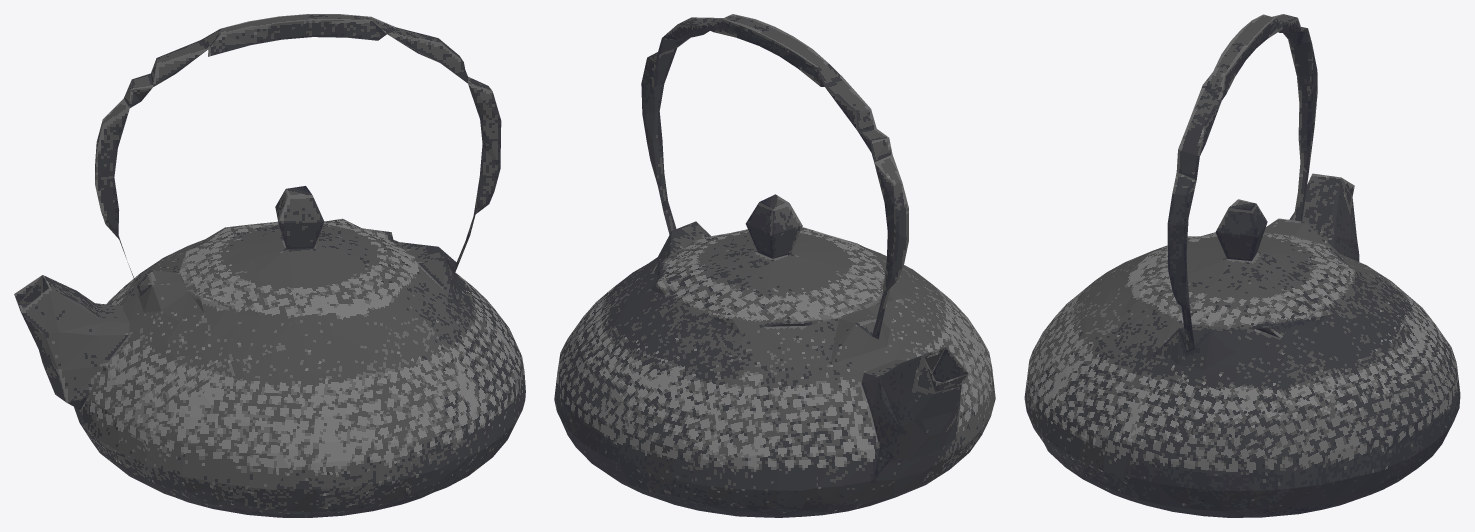
File: kettle.glb
3 views of the same model, side by side, from view 1: azimuth 30°, elevation 25°; view 2: azimuth 150°, elevation 25°; view 3: azimuth 270°, elevation 25° (orthographic). The views are drawn at different scales.
Parts seen in each view (by area): view 1: model_m; view 2: model_m; view 3: model_m.
Boxes of the visible parts, x1=… form: model_m: x1=14, y1=14, x2=525, y2=517; model_m: x1=554, y1=14, x2=995, y2=517; model_m: x1=1024, y1=14, x2=1460, y2=517.
Size of the model in its own units: 28.36 by 27.74 by 25.64.
Materials: 1 (1 with a texture image).
